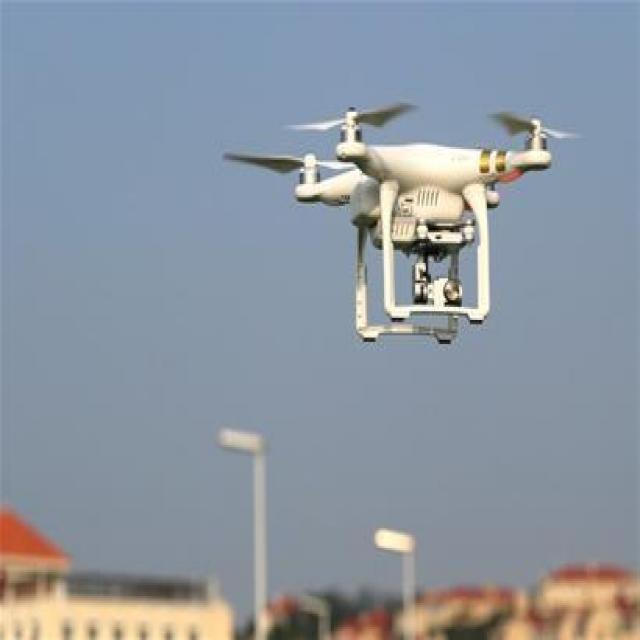UAV: (292, 107, 556, 355)
